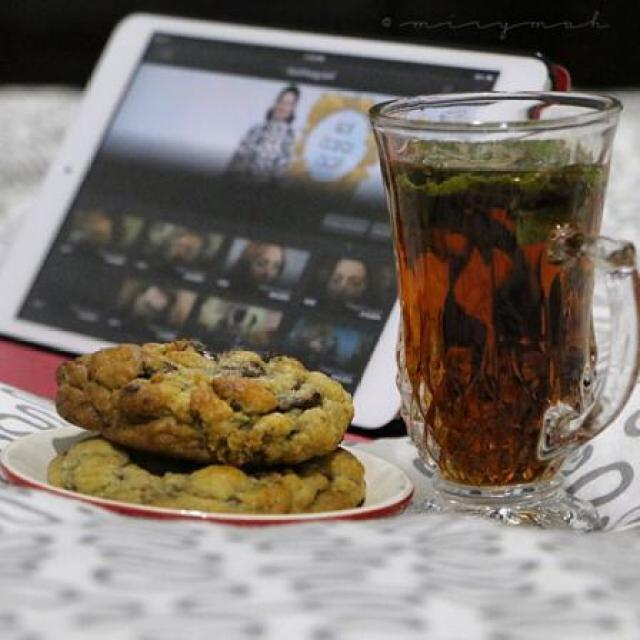Cookie: (57, 332, 366, 479), (44, 436, 366, 510)
